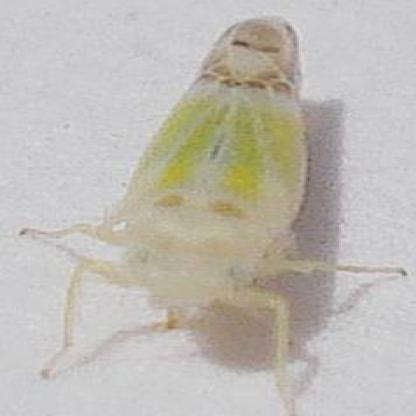green-leafhopper: (58, 16, 346, 383)
